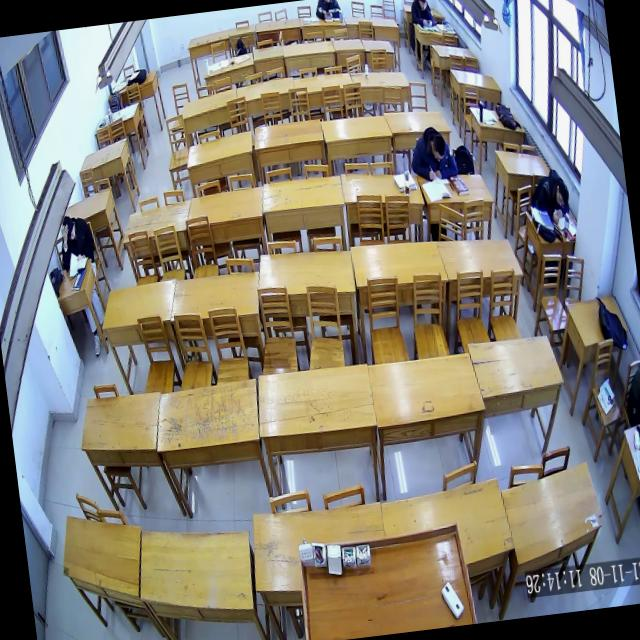down: (428, 132, 448, 166), (552, 180, 570, 211), (60, 214, 78, 244), (416, 0, 428, 12)
sit: (404, 121, 460, 184), (54, 208, 98, 273), (528, 165, 572, 228), (407, 0, 436, 30)
